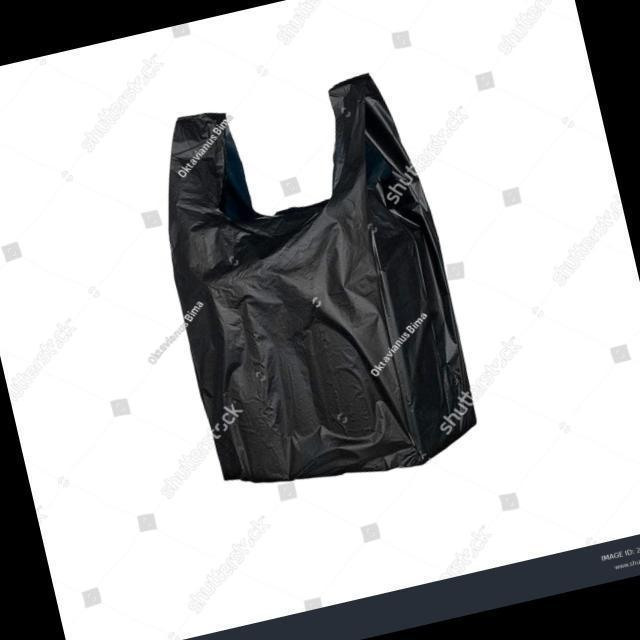Plastic_Bag: (133, 58, 494, 512)
